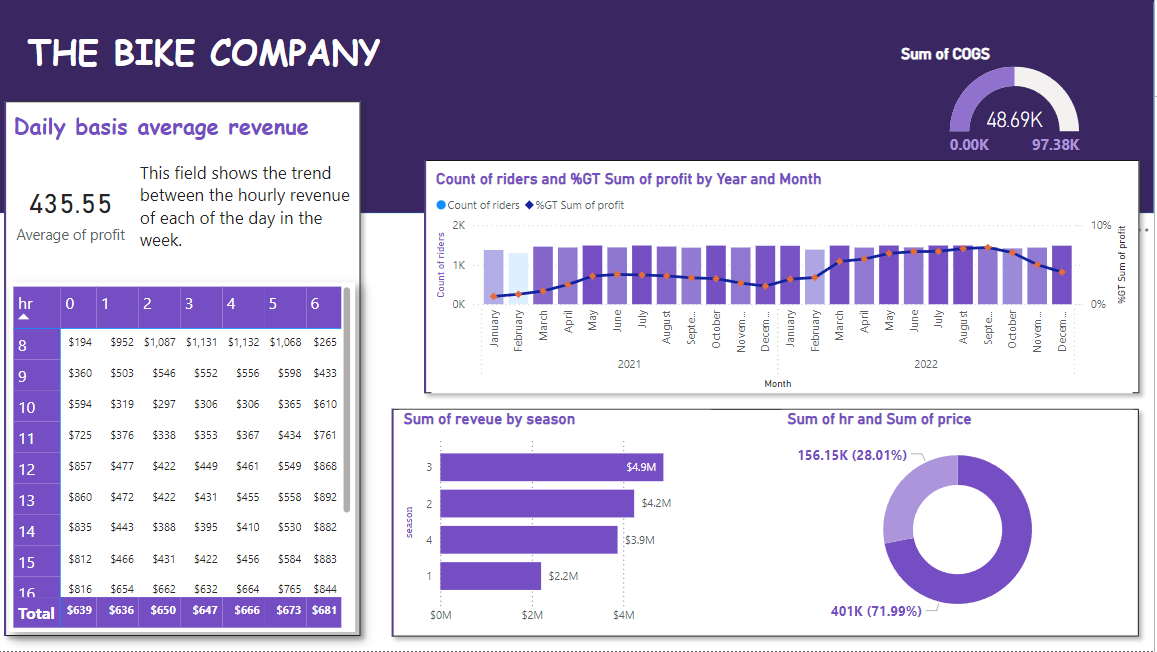

The page's visual inventory and layout, read from the dashboard file:
{"tool":"powerbi","page":{"name":"Page 1","canvas":[1280,720],"ordinal":0},"visuals":[{"type":"shape","box":[9.6,0,1270.7,238.8],"z":0},{"type":"cardVisual","fields":{"Data":["Min(Query1.riders)"]},"box":[0,98.8,425.4,621.6],"z":1000},{"type":"cardVisual","fields":{"Data":["Min(Query1.riders)"]},"box":[461.1,163.3,819.2,290.9],"z":2000},{"type":"cardVisual","fields":{"Data":["Min(Query1.riders)"]},"box":[425.4,436.4,854.9,284],"z":3000},{"type":"pivotTable","fields":{"Rows":["Query1.hr"],"Values":["Avg(Query1.reveue)"],"Columns":["Query1.weekday"]},"box":[22,314.2,380.1,384.2],"z":5000},{"type":"textbox","box":[22,120.8,363.6,54.9],"z":6000},{"type":"textbox","box":[160.5,175.6,241.5,120.8],"z":7000},{"type":"lineClusteredColumnComboChart","fields":{"Y":["CountNonNull(Query1.riders)"],"Category":["Query1.dteday.Variation.Date Hierarchy.Year","Query1.dteday.Variation.Date Hierarchy.Month"],"Y2":["Sum(Query1.profit)"]},"box":[485.8,190.7,769.8,245.6],"z":8000},{"type":"barChart","fields":{"Y":["Sum(Query1.reveue)"],"Category":["Query1.season"]},"box":[450.1,454.2,341.7,244.3],"z":9000},{"type":"donutChart","fields":{"Y":["Sum(Query1.hr)","Sum(Query1.price)"]},"box":[871.4,454.2,384.2,244.3],"z":9001},{"type":"card","fields":{"Values":["Avg(Query1.profit)"]},"box":[22,185.2,135.8,102.9],"z":9002},{"type":"gauge","fields":{"Y":["Sum(Query1.COGS)"]},"box":[996.2,53.5,259.3,131.7],"z":9003},{"type":"textbox","box":[22,30.2,428.1,78.2],"z":9004}]}

Visuals, with their boxes in screenshot pixels (x1, y1, x2, y2), scaled from the page's 1280x720 canvas onto the 1157x652 screenshot:
shape: [left=9, top=0, right=1156, bottom=216]
cardVisual - Min(Query1.riders): [left=0, top=89, right=385, bottom=651]
cardVisual - Min(Query1.riders): [left=417, top=148, right=1156, bottom=411]
cardVisual - Min(Query1.riders): [left=385, top=395, right=1156, bottom=651]
pivotTable - Query1.hr x Avg(Query1.reveue): [left=20, top=285, right=363, bottom=632]
textbox: [left=20, top=109, right=349, bottom=159]
textbox: [left=145, top=159, right=363, bottom=268]
lineClusteredColumnComboChart - CountNonNull(Query1.riders) x Query1.dteday.Variation.Date Hierarchy.Year: [left=439, top=173, right=1135, bottom=395]
barChart - Sum(Query1.reveue) x Query1.season: [left=407, top=411, right=716, bottom=633]
donutChart - Sum(Query1.hr) x Sum(Query1.price): [left=788, top=411, right=1135, bottom=633]
card - Avg(Query1.profit): [left=20, top=168, right=143, bottom=261]
gauge - Sum(Query1.COGS): [left=900, top=48, right=1135, bottom=168]
textbox: [left=20, top=27, right=407, bottom=98]
